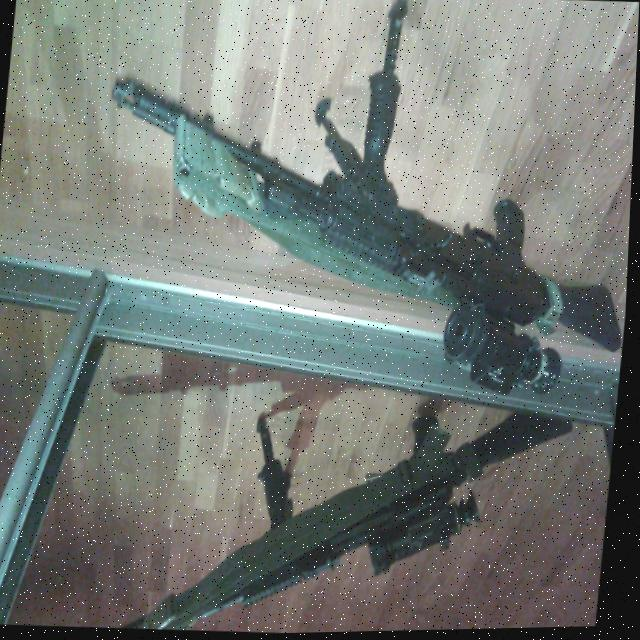firearm: (83, 0, 640, 418), (113, 392, 578, 638)
